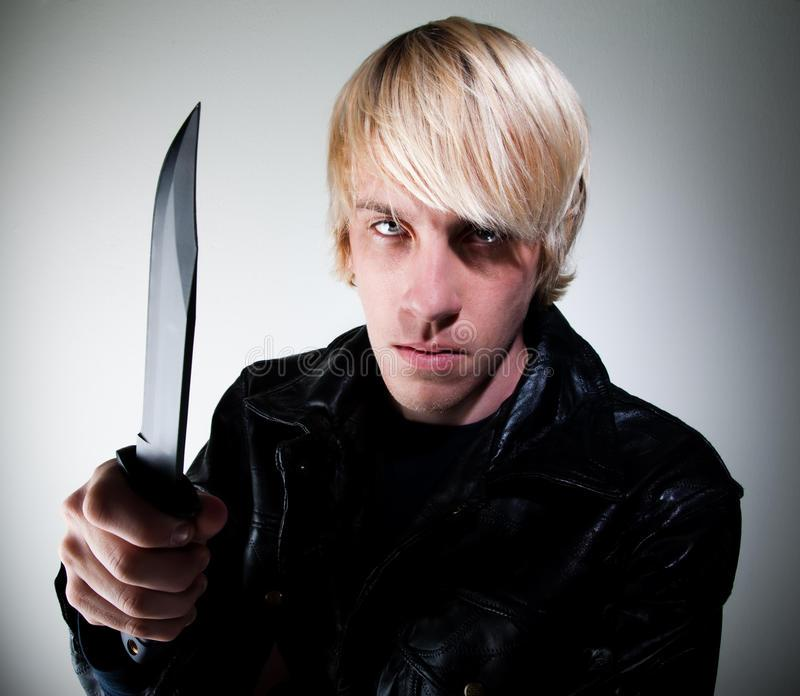criminal: (52, 13, 746, 696)
weapon: (117, 97, 206, 664)
